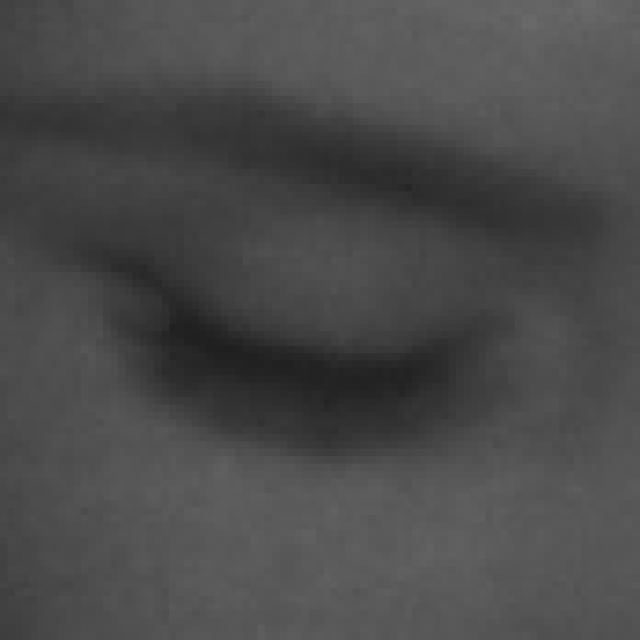Eyeclosed: (107, 194, 500, 538)
